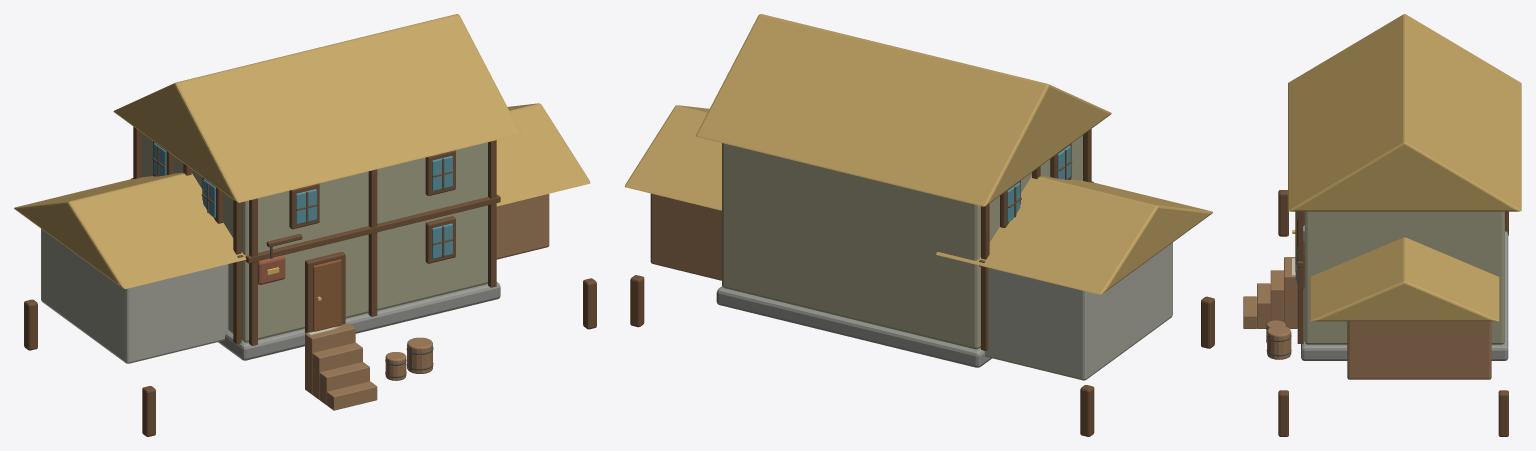
Rendered from wetland-inn-1.glb.
The picture shows the model from 3 angles, left to right: view 1: azimuth 30°, elevation 25°; view 2: azimuth 150°, elevation 25°; view 3: azimuth 270°, elevation 25°; orthographic projection. The views are drawn at different scales.
Parts seen in each view (by area): view 1: Golden thatch, Weathered planks, Dark beams, Fieldstone, Aged oak, Foundation stone, Blue glass, Door oak, Painted sign; view 2: Golden thatch, Weathered planks, Fieldstone, Aged oak, Foundation stone, Dark beams, Blue glass; view 3: Golden thatch, Aged oak, Weathered planks, Dark beams, Foundation stone.
Part boxes in pixels (x1,y1,x2,y2): Golden thatch: (14,14,590,288); Weathered planks: (141,133,487,342); Dark beams: (24,126,596,436); Fieldstone: (41,229,229,363); Aged oak: (305,194,549,410); Foundation stone: (218,282,500,360); Blue glass: (153,143,452,258); Door oak: (313,259,341,331); Painted sign: (257,255,285,284); Golden thatch: (625,14,1213,294); Weathered planks: (722,135,1082,349); Fieldstone: (980,242,1172,380); Aged oak: (650,193,721,280); Foundation stone: (716,286,991,367); Dark beams: (630,129,1214,436); Blue glass: (1007,145,1070,222); Golden thatch: (1288,14,1521,321); Aged oak: (1243,257,1491,379); Weathered planks: (1304,211,1504,344); Dark beams: (1278,190,1508,436); Foundation stone: (1301,231,1508,360).
Size of the model in its own units: 8.65 by 4.92 by 4.72.
